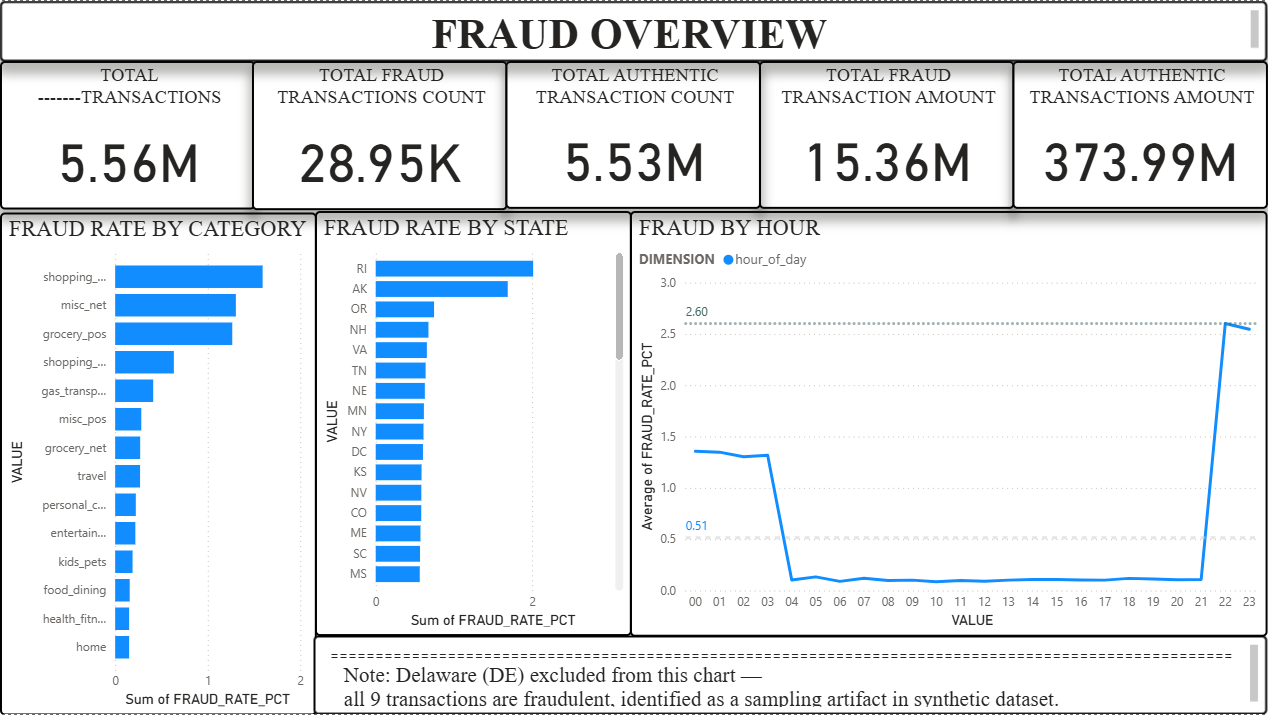

What the dashboard file says about the page in this screenshot:
{"tool":"powerbi","page":{"name":"Fraud Overview","canvas":[1280,720],"ordinal":0},"visuals":[{"type":"group","id":"g1","title":"Group 1","box":[0,60,1280,660.9],"z":0},{"type":"card","title":"TOTAL -------TRANSACTIONS","fields":{"Values":["Sum(MART_FRAUD_SUMMARY.TOTAL_TXNS)"]},"box":[0,60.4,258,149.9],"z":0,"group":"g4"},{"type":"clusteredBarChart","title":"FRAUD RATE BY CATEGORY","fields":{"Category":["MART_FRAUD_SUMMARY.VALUE"],"Y":["Sum(MART_FRAUD_SUMMARY.FRAUD_RATE_PCT)"]},"box":[0,212.9,320,508],"z":0,"group":"g1"},{"type":"textbox","box":[0,0,1280,61.4],"z":1000},{"type":"card","title":"TOTAL FRAUD TRANSACTIONS COUNT","fields":{"Values":["Sum(MART_FRAUD_SUMMARY.FRAUD_TXNS)"]},"box":[254,60,258,150.6],"z":1000,"group":"g4"},{"type":"clusteredBarChart","title":"FRAUD RATE BY STATE","fields":{"Category":["MART_FRAUD_SUMMARY.VALUE"],"Y":["Sum(MART_FRAUD_SUMMARY.FRAUD_RATE_PCT)"]},"box":[318,211,320,429.2],"z":1000,"group":"g2"},{"type":"textbox","box":[317,640,963,80],"z":1000,"group":"g1"},{"type":"card","title":"TOTAL FRAUD TRANSACTION AMOUNT","fields":{"Values":["Sum(MART_FRAUD_SUMMARY.FRAUD_AMOUNT)"]},"box":[766,60,258,149],"z":2000,"group":"g4"},{"type":"group","id":"g2","title":"Group 2","box":[318,211,962,430],"z":2000,"group":"g1"},{"type":"lineChart","title":"FRAUD BY HOUR","fields":{"Category":["MART_FRAUD_SUMMARY.VALUE"],"Y":["Avg(MART_FRAUD_SUMMARY.FRAUD_RATE_PCT)"],"Series":["MART_FRAUD_SUMMARY.DIMENSION"]},"box":[636,211,644,430],"z":2000,"group":"g2"},{"type":"group","id":"g3","title":"Group 3","box":[0,60,1280,150.6],"z":3000,"group":"g1"},{"type":"card","title":"TOTAL  AUTHENTIC TRANSACTION COUNT","fields":{"Values":["Sum(MART_FRAUD_SUMMARY.LEGIT_TXNS)"]},"box":[510,60,258,149],"z":3000,"group":"g4"},{"type":"card","title":"TOTAL AUTHENTIC TRANSACTIONS AMOUNT","fields":{"Values":["Sum(MART_FRAUD_SUMMARY.LEGIT_AMOUNT)"]},"box":[1022,60,258,149],"z":4000,"group":"g4"},{"type":"group","id":"g4","title":"Group 4","box":[0,60,1280,150.6],"z":4002,"group":"g3"}]}

Visuals, with their boxes in screenshot pixels (x1, y1, x2, y2), scaled from the page's 1280x720 canvas onto the 1268x715 screenshot:
"Group 1" group: [x1=0, y1=60, x2=1267, y2=714]
"TOTAL -------TRANSACTIONS" card: [x1=0, y1=60, x2=256, y2=209]
"FRAUD RATE BY CATEGORY" clusteredBarChart: [x1=0, y1=211, x2=317, y2=714]
textbox: [x1=0, y1=0, x2=1267, y2=61]
"TOTAL FRAUD TRANSACTIONS COUNT" card: [x1=252, y1=60, x2=507, y2=209]
"FRAUD RATE BY STATE" clusteredBarChart: [x1=315, y1=210, x2=632, y2=636]
textbox: [x1=314, y1=636, x2=1267, y2=714]
"TOTAL FRAUD TRANSACTION AMOUNT" card: [x1=759, y1=60, x2=1014, y2=208]
"Group 2" group: [x1=315, y1=210, x2=1267, y2=637]
"FRAUD BY HOUR" lineChart: [x1=630, y1=210, x2=1267, y2=637]
"Group 3" group: [x1=0, y1=60, x2=1267, y2=209]
"TOTAL  AUTHENTIC TRANSACTION COUNT" card: [x1=505, y1=60, x2=761, y2=208]
"TOTAL AUTHENTIC TRANSACTIONS AMOUNT" card: [x1=1012, y1=60, x2=1267, y2=208]
"Group 4" group: [x1=0, y1=60, x2=1267, y2=209]
